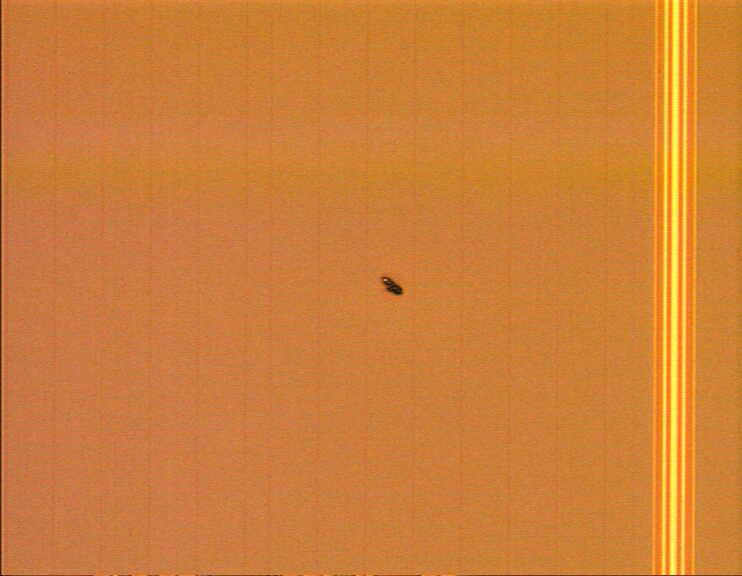PIQ PARTICLE: (377, 271, 409, 304)
